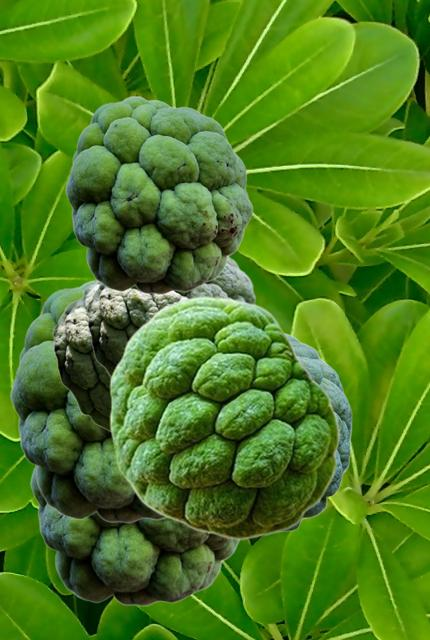atis: (109, 295, 339, 539), (10, 279, 167, 523), (65, 95, 252, 294), (30, 466, 242, 606), (86, 256, 256, 377), (286, 333, 351, 531), (52, 281, 109, 432)
